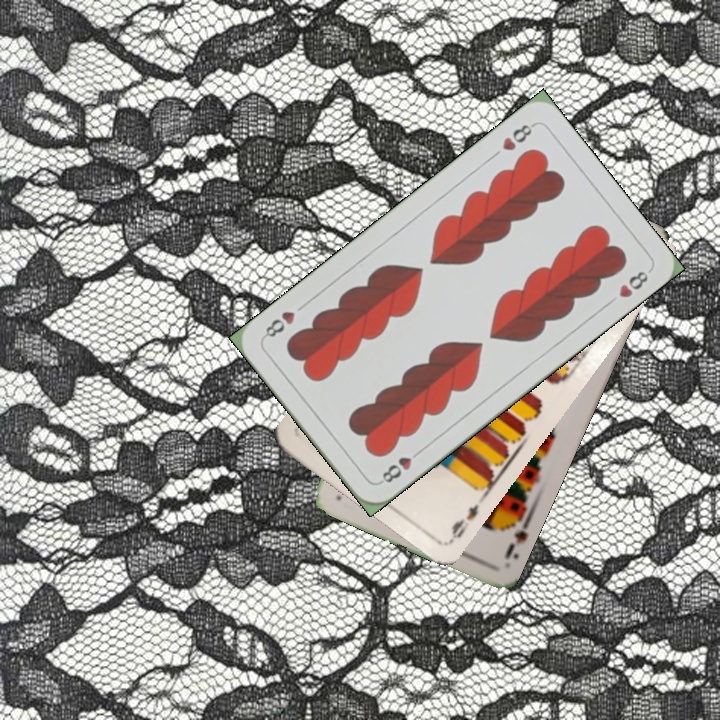E9: (445, 499, 482, 544)
H8: (375, 444, 425, 486), (498, 119, 538, 154)
S9: (500, 509, 535, 562)
